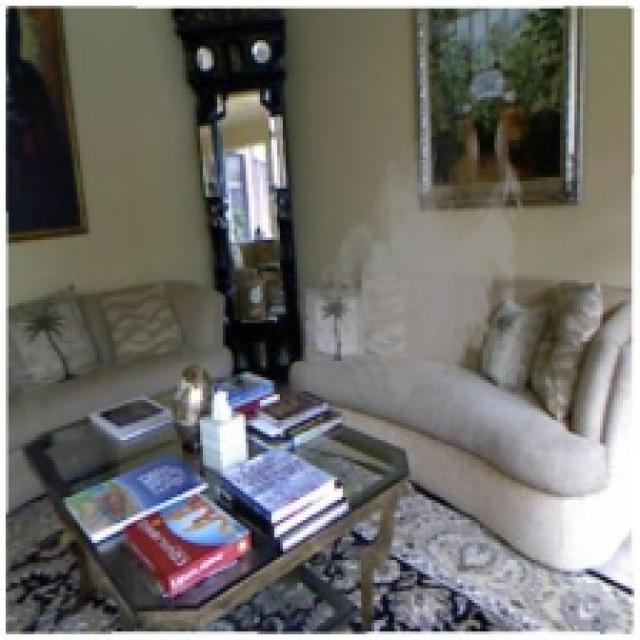Smoke: (317, 123, 529, 406)
